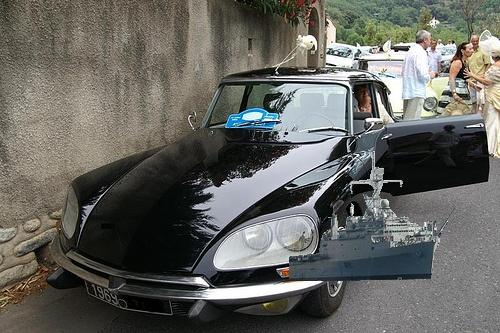tampered: (290, 152, 456, 281)
